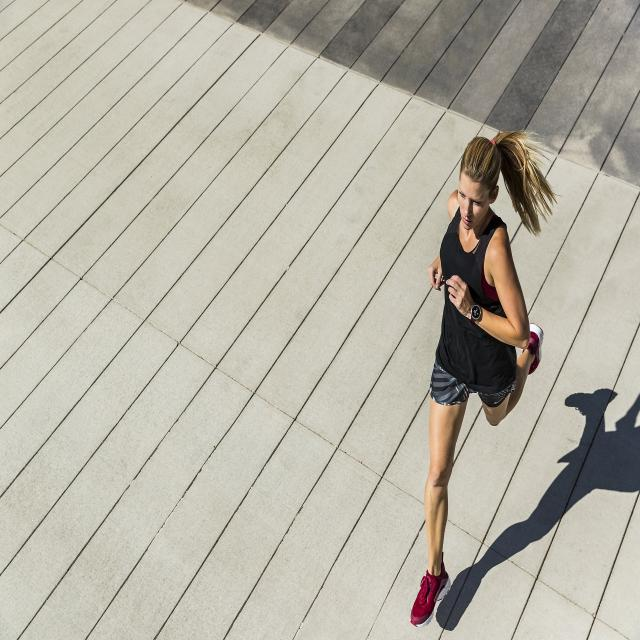running: (405, 123, 549, 631)
